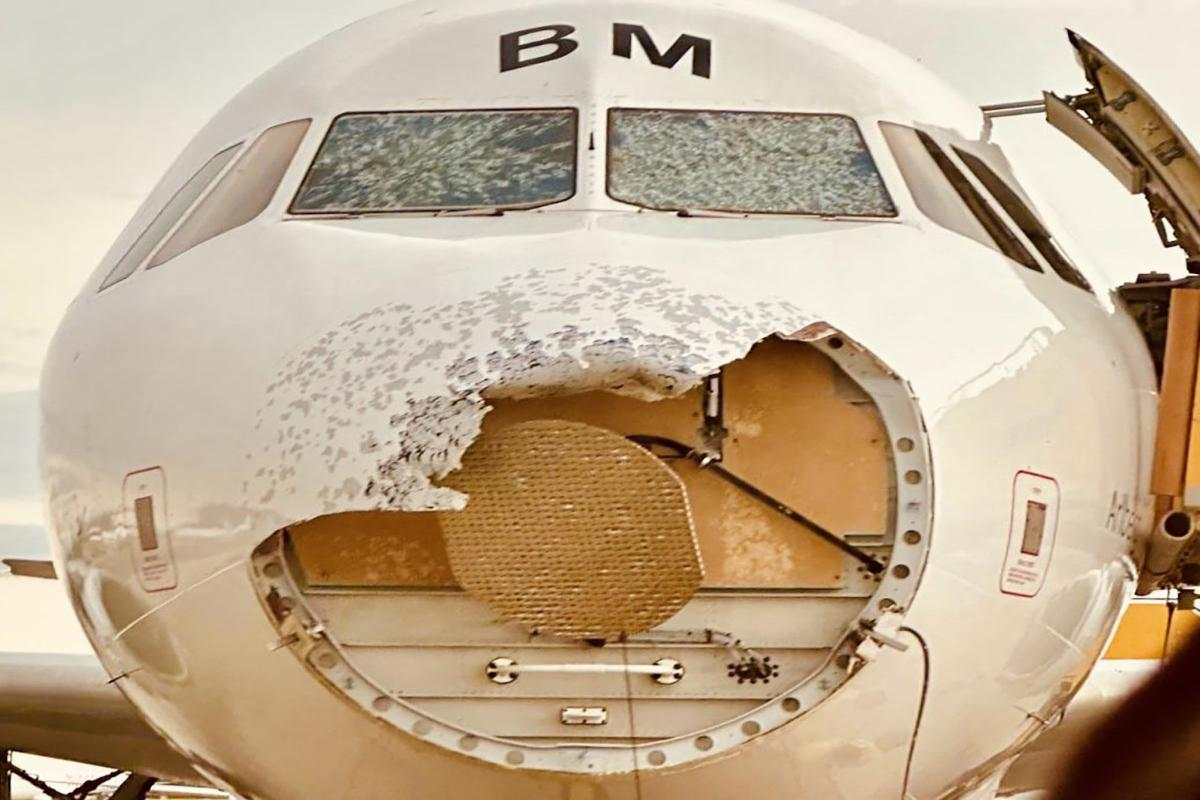Fuselage_damage: (223, 256, 957, 781)
